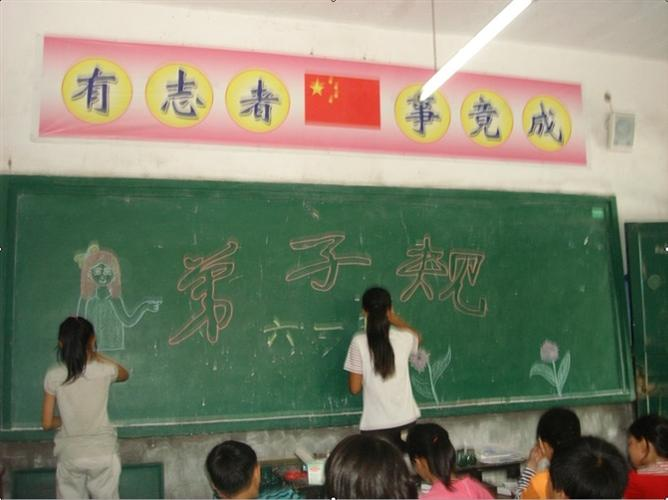person: (345, 286, 421, 451)
